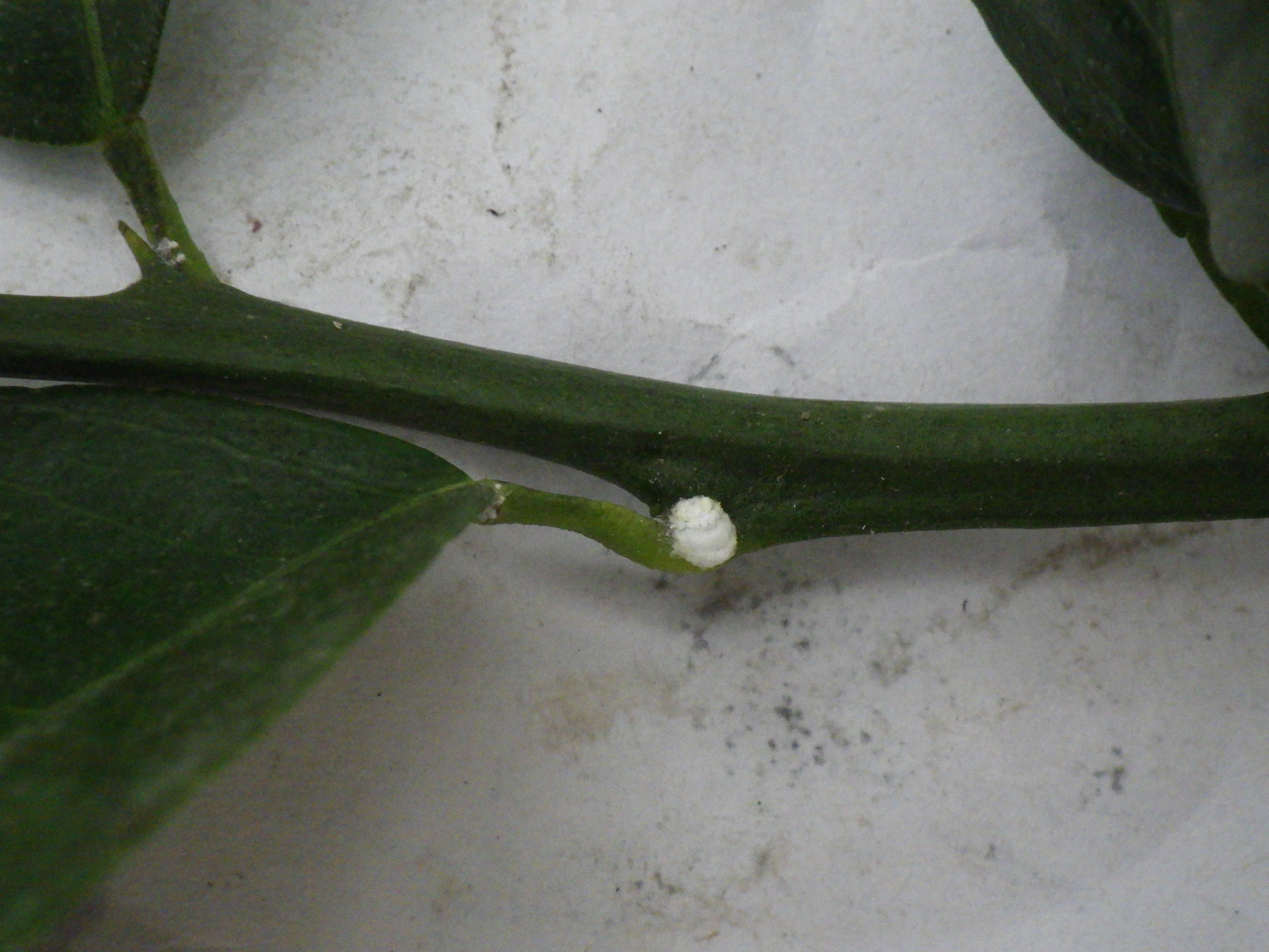Scale_Insect: (666, 496, 737, 568)
